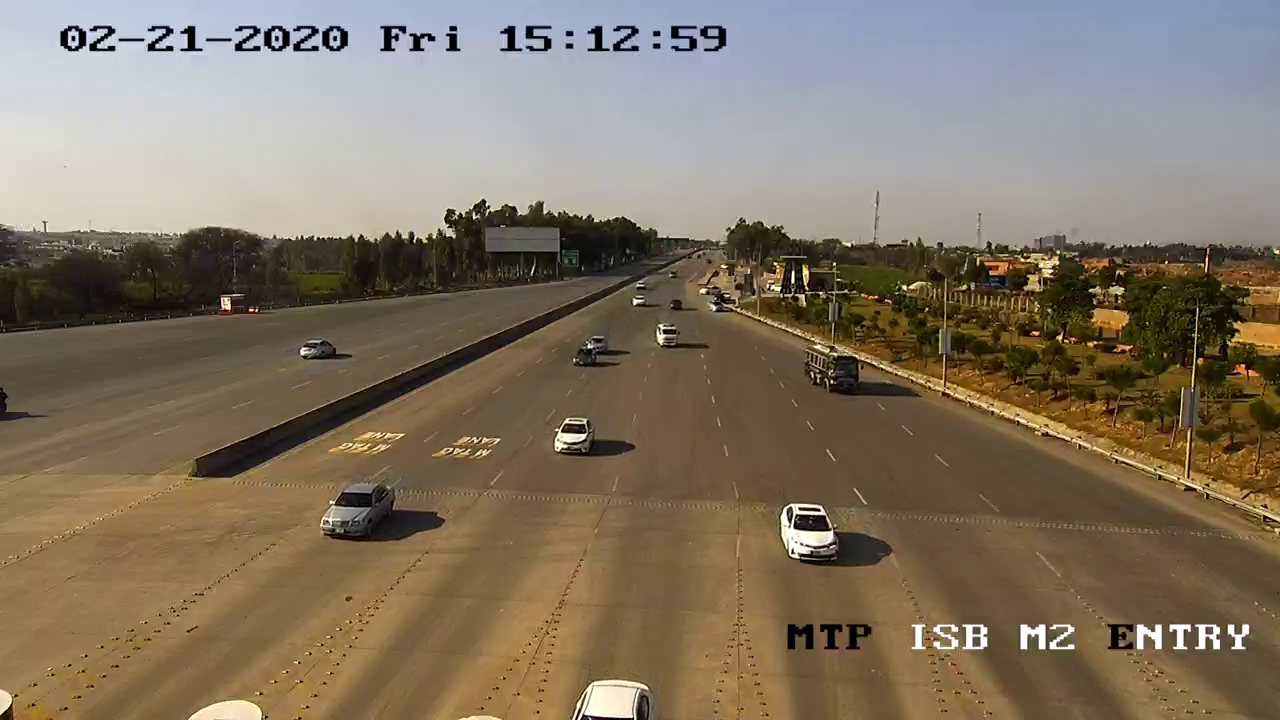f1: (313, 472, 405, 545), (771, 493, 849, 569), (547, 411, 605, 461)
f4: (804, 338, 865, 399)
